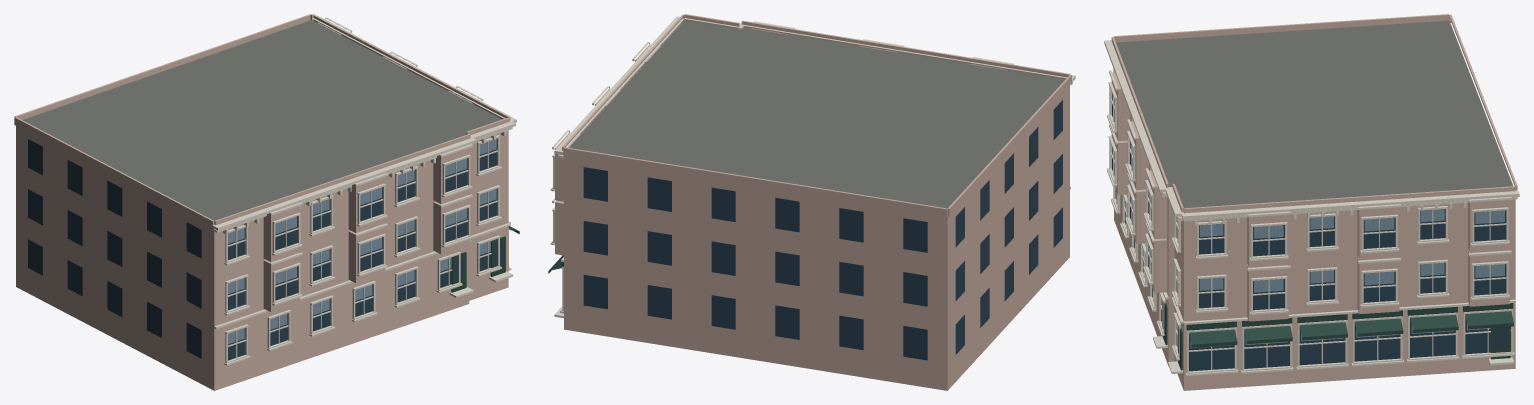
3 renders of one model, left to right at view 1: azimuth 30°, elevation 25°; view 2: azimuth 150°, elevation 25°; view 3: azimuth 270°, elevation 25°, orthographic. The views are drawn at different scales.
Parts seen in each view (by area): view 1: Footprint 0 / surface 2, Footprint 0 / surface 1, Cornices and window frames, Inset glazing, Facade bay volumes, Sky reflection panels, Storefronts and doors; view 2: Footprint 0 / surface 2, Footprint 0 / surface 1, Inset glazing, Facade bay volumes, Cornices and window frames; view 3: Footprint 0 / surface 1, Footprint 0 / surface 2, Cornices and window frames, Facade bay volumes, Inset glazing, Storefronts and doors, Sky reflection panels.
Boxes of the visible parts, bbox=[...] form: Footprint 0 / surface 2: bbox=[16, 126, 508, 390]; Footprint 0 / surface 1: bbox=[22, 20, 501, 220]; Cornices and window frames: bbox=[212, 15, 516, 365]; Inset glazing: bbox=[28, 138, 502, 360]; Facade bay volumes: bbox=[14, 14, 510, 312]; Sky reflection panels: bbox=[228, 138, 496, 344]; Storefronts and doors: bbox=[451, 226, 519, 292]; Footprint 0 / surface 2: bbox=[564, 86, 1069, 390]; Footprint 0 / surface 1: bbox=[569, 20, 1064, 208]; Inset glazing: bbox=[583, 100, 1062, 360]; Facade bay volumes: bbox=[555, 14, 1071, 255]; Cornices and window frames: bbox=[550, 16, 1075, 318]; Footprint 0 / surface 1: bbox=[1116, 20, 1512, 208]; Footprint 0 / surface 2: bbox=[1114, 115, 1515, 390]; Cornices and window frames: bbox=[1104, 40, 1519, 376]; Facade bay volumes: bbox=[1111, 14, 1517, 321]; Inset glazing: bbox=[1112, 99, 1510, 371]; Storefronts and doors: bbox=[1162, 302, 1513, 370]; Sky reflection panels: bbox=[1112, 93, 1504, 348].
Size of the model in its own units: 26.65 by 11.25 by 23.18.
